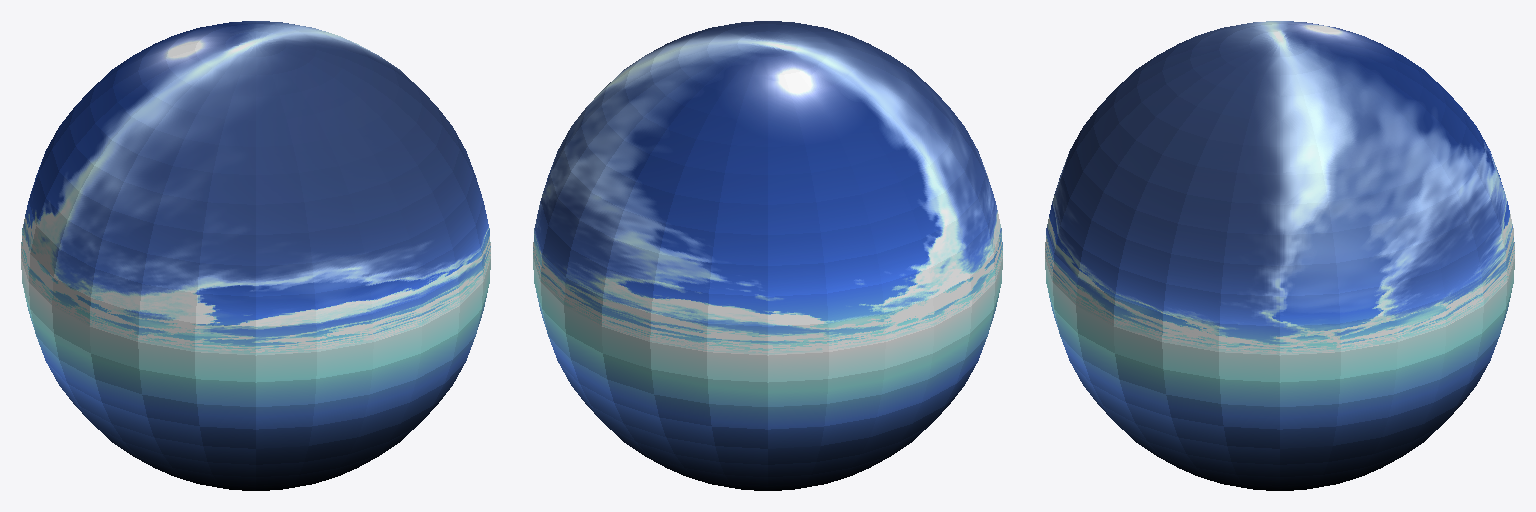
3 views of the same model, side by side, from view 1: azimuth 30°, elevation 25°; view 2: azimuth 150°, elevation 25°; view 3: azimuth 270°, elevation 25° (orthographic).
Parts seen in each view (by area): view 1: sky.obj; view 2: sky.obj; view 3: sky.obj.
Boxes of the visible parts, box(x1,y1,x2,y2) form: sky.obj: box(21, 21, 490, 490); sky.obj: box(533, 21, 1002, 490); sky.obj: box(1045, 21, 1514, 490).
Bounding box in the file's own units: 200 × 200 × 200.
Materials: 1 (1 with a texture image).